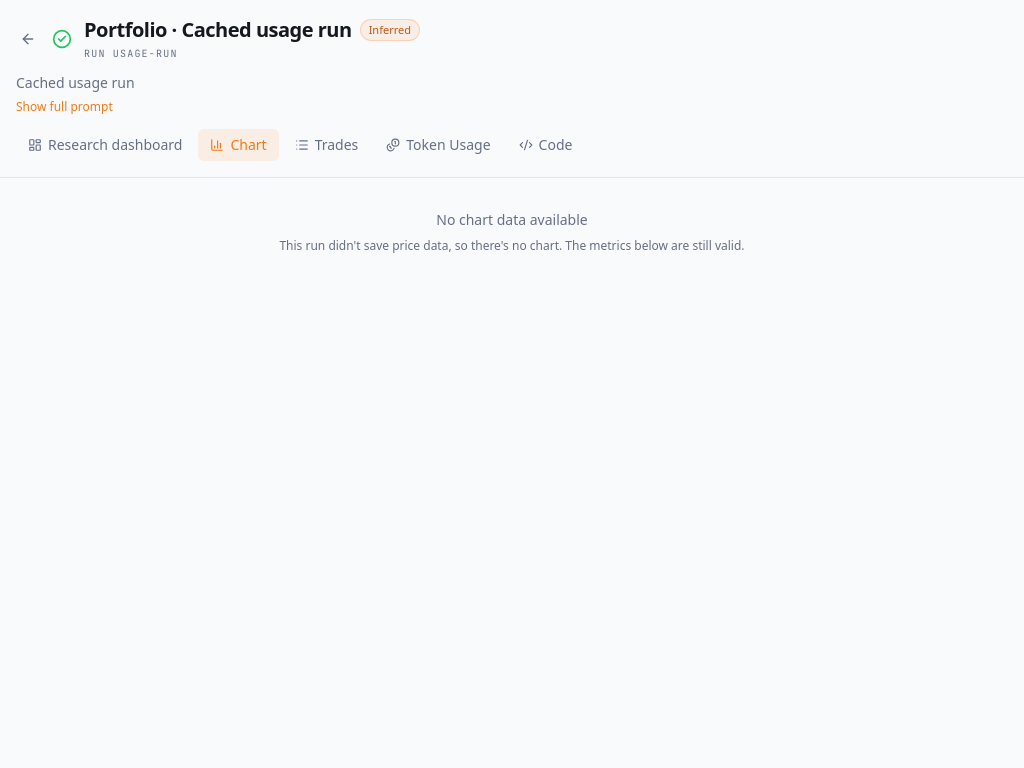
Test: RunDetail token-usage tab › renders cache totals and per-iteration cache columns when the provider reported them
Expected: the text "Cached usage run" is shown, x1=16 y1=73 x2=135 y2=92
Click the tab "Token Usage": (438, 145) x1=374 y1=129 x2=503 y2=161
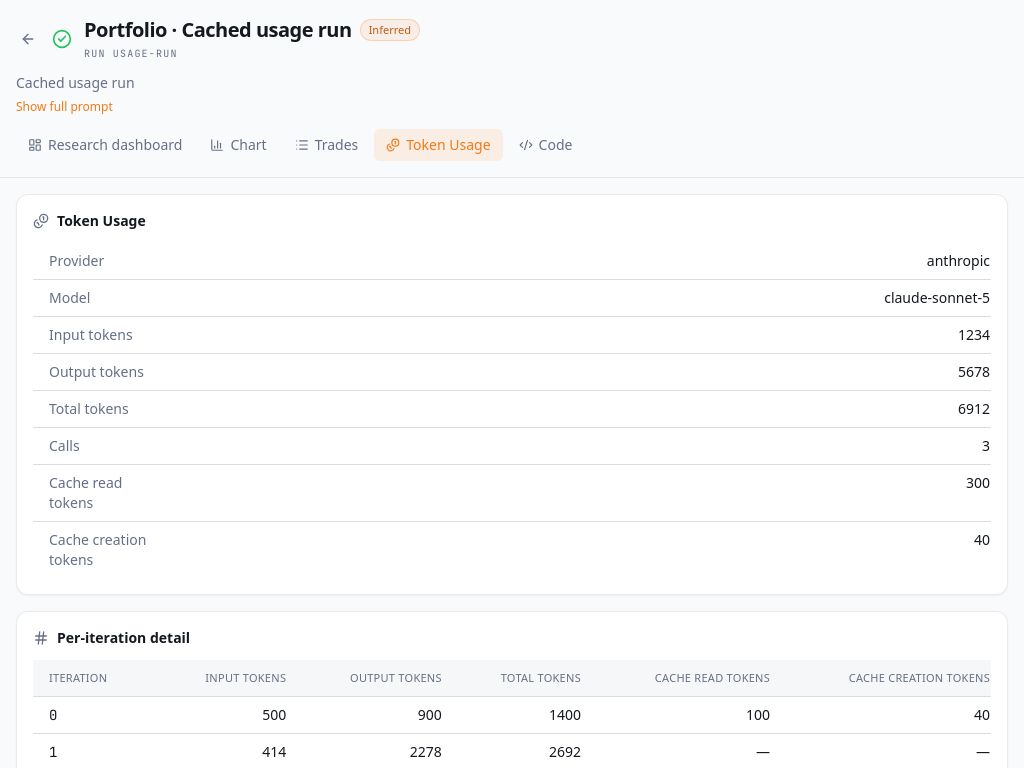
Now the text "Cache read tokens" is shown, box x1=33 y1=464 x2=177 y2=522
Now the text "300" is shown, box x1=177 y1=464 x2=991 y2=522
Now the text "Cache creation tokens" is shown, box x1=33 y1=522 x2=177 y2=578
